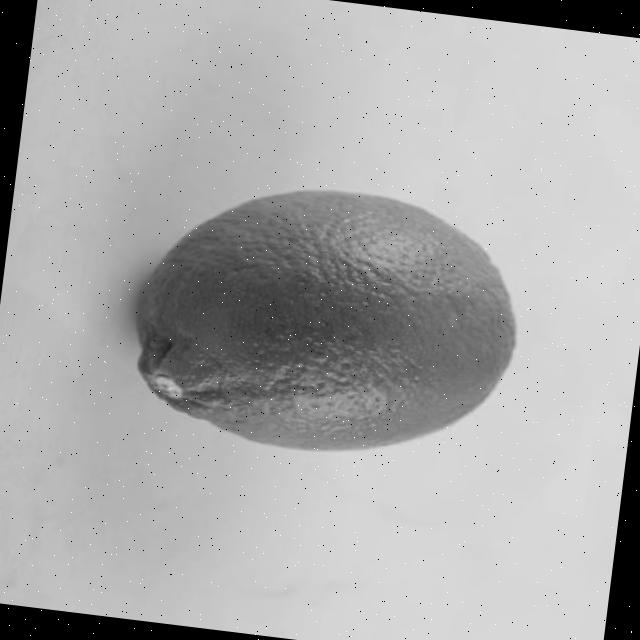Unripe: (123, 167, 532, 473)
